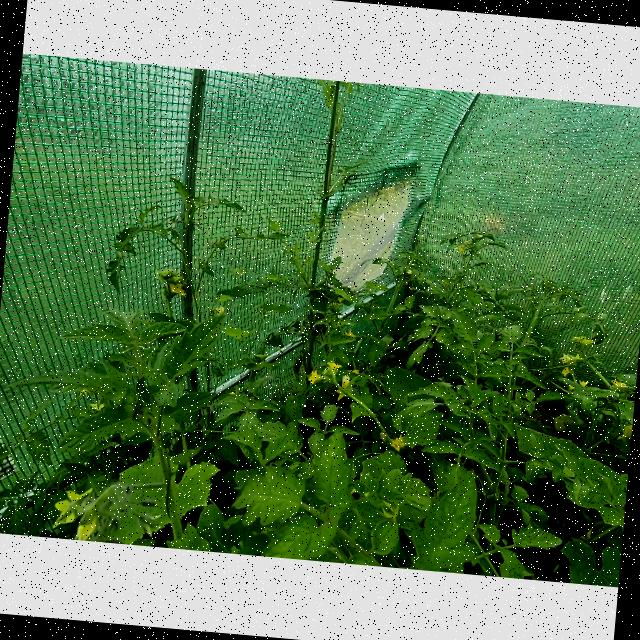Flowers: (54, 488, 102, 541), (167, 278, 190, 301), (378, 502, 401, 522), (336, 374, 352, 399), (572, 335, 594, 351), (559, 353, 582, 367), (616, 424, 632, 444), (389, 434, 406, 448), (90, 400, 106, 412), (306, 368, 318, 382), (610, 381, 627, 390), (210, 306, 225, 316), (78, 387, 90, 398), (324, 362, 342, 369), (455, 243, 466, 254), (560, 366, 571, 376), (578, 378, 589, 388), (568, 386, 572, 390)
